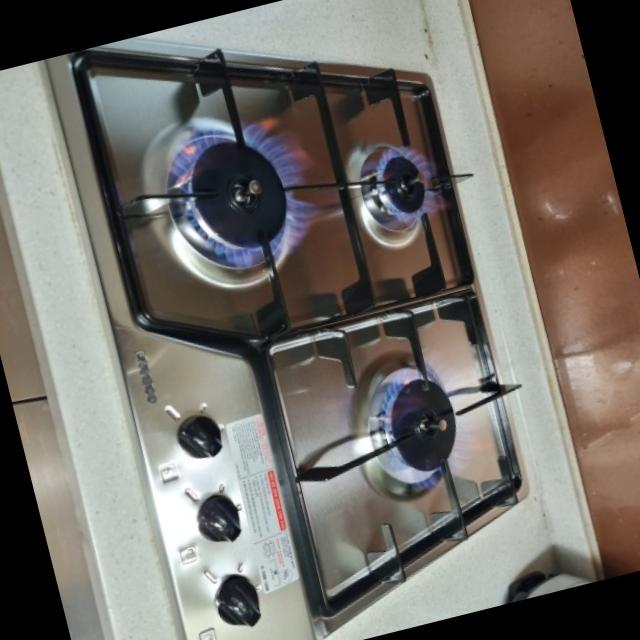knob_ON: (153, 103, 360, 348), (340, 326, 494, 499), (340, 110, 480, 261)
